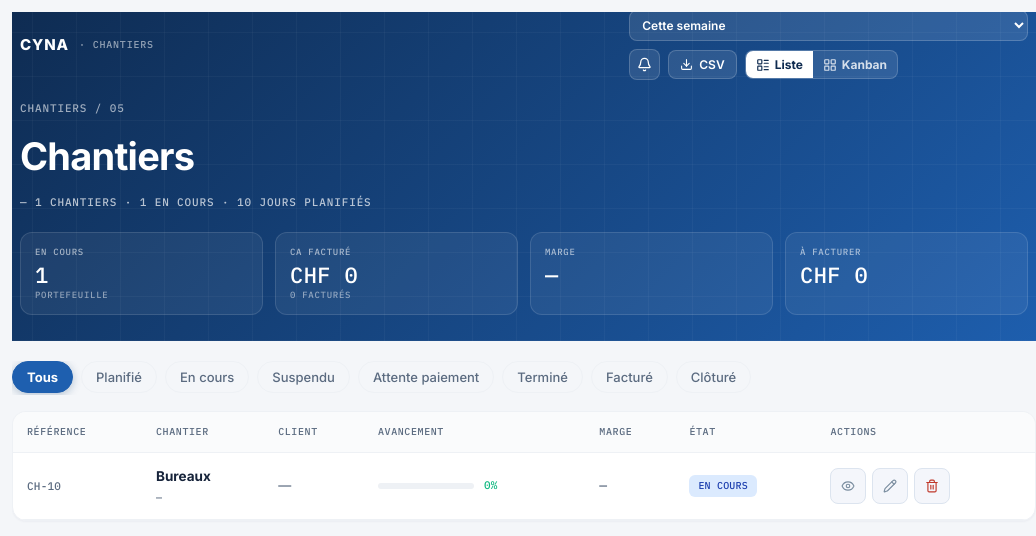
Test: chantier marqué dans état brut et absent du rendu
Click the button titled "Supprimer".
click(932, 486)  # box [914,468,950,504]
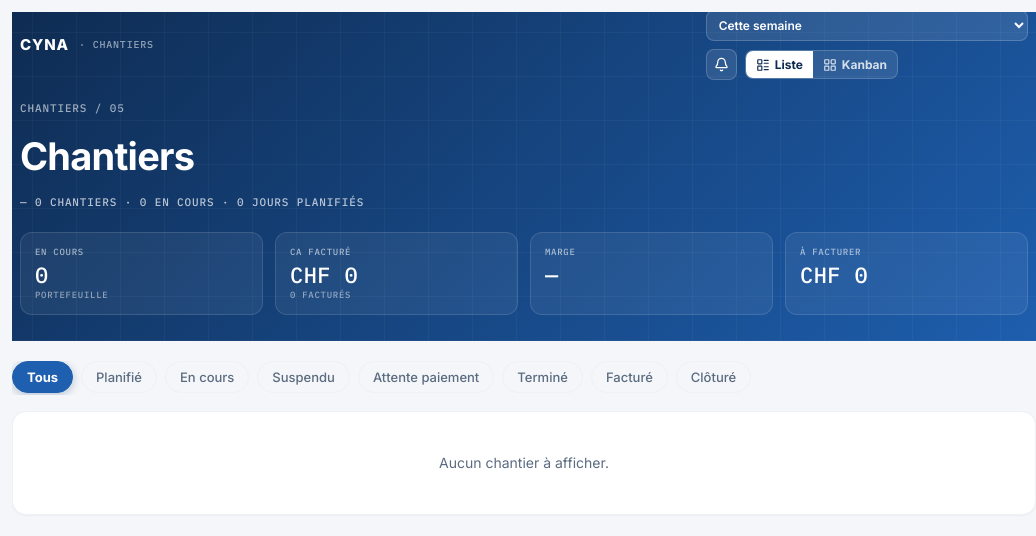
Now the button titled "Supprimer" is gone
